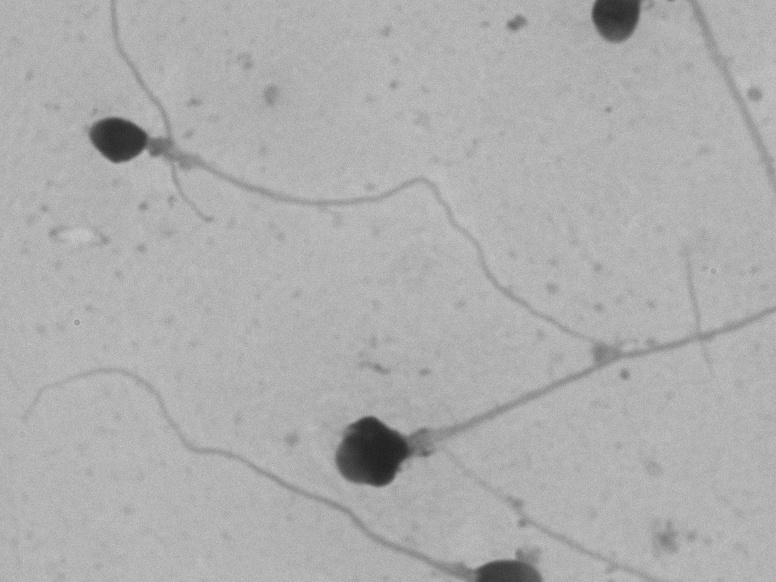Abnormal: (75, 72, 609, 338), (317, 267, 767, 495)
